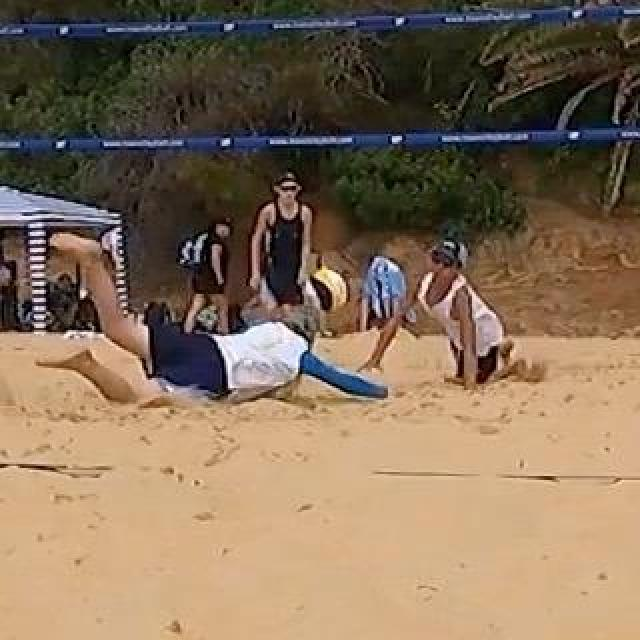volleyball: (307, 269, 349, 311)
